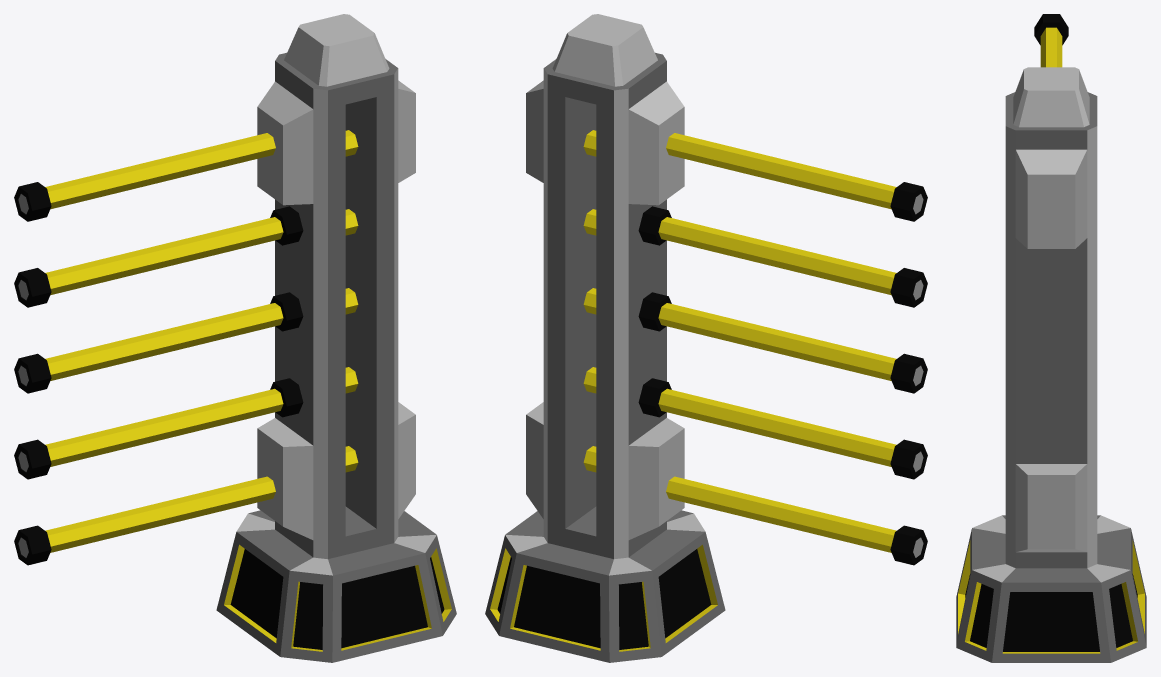
Rendered from Wall1.fbx.
The picture shows the model from 3 angles, left to right: view 1: azimuth 30°, elevation 25°; view 2: azimuth 150°, elevation 25°; view 3: azimuth 270°, elevation 25°; orthographic projection. The views are drawn at different scales.
Parts seen in each view (by area): view 1: Plane.004; view 2: Plane.004; view 3: Plane.004.
Boxes of the visible parts, x1,y1,x2,y2 form: Plane.004: (14,14,456,662); Plane.004: (485,14,927,662); Plane.004: (956,14,1146,662).
Bounding box in the file's own units: 117 × 162 × 51.48.
